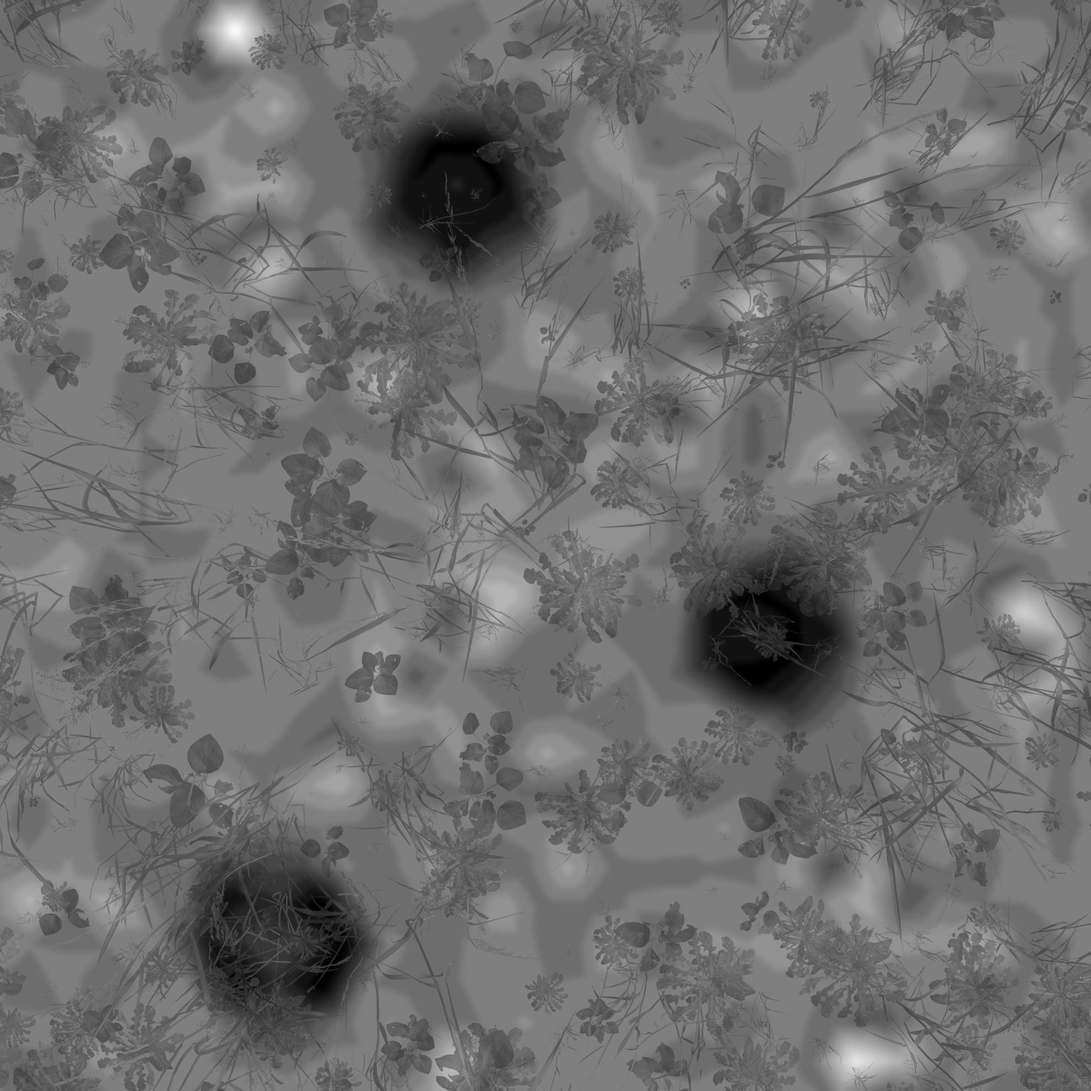landmine: (373, 118, 548, 284), (206, 868, 362, 1031), (694, 571, 826, 707)
